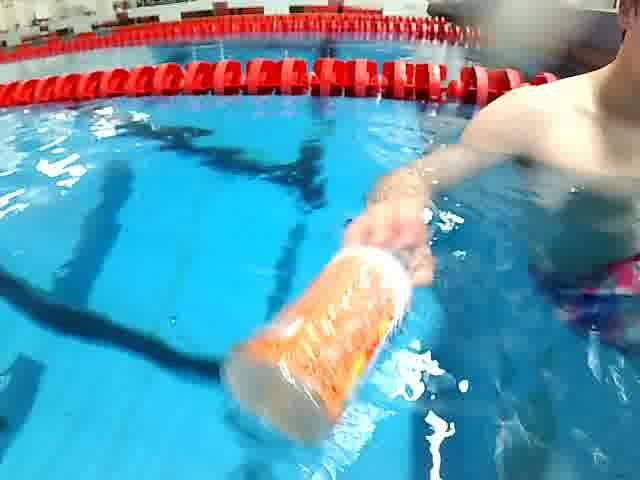Bottle: (213, 196, 436, 450)
